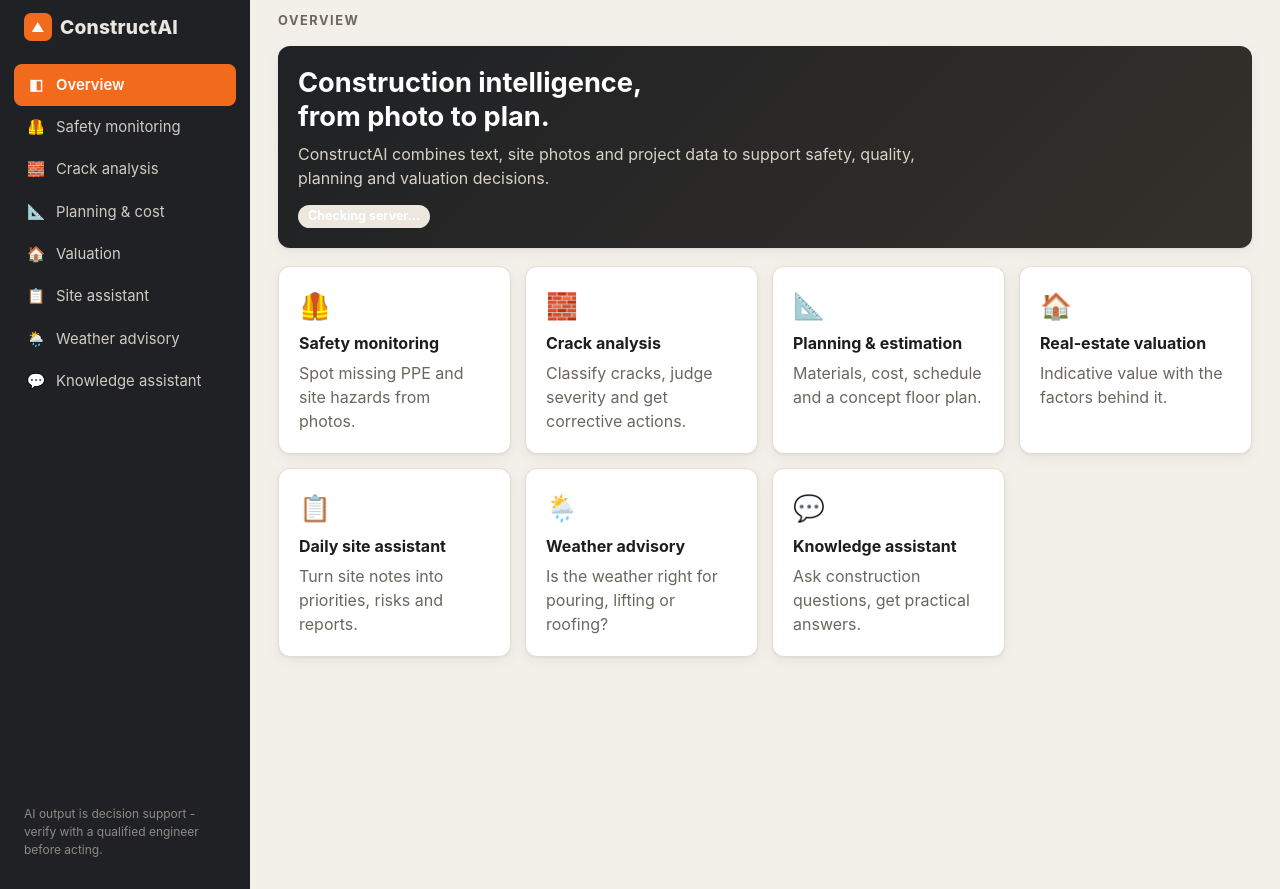
Test: planning module › copes with a missing layout
Click the button "📐 Planning & cost" at (125, 212), box 14,191 -> 236,233
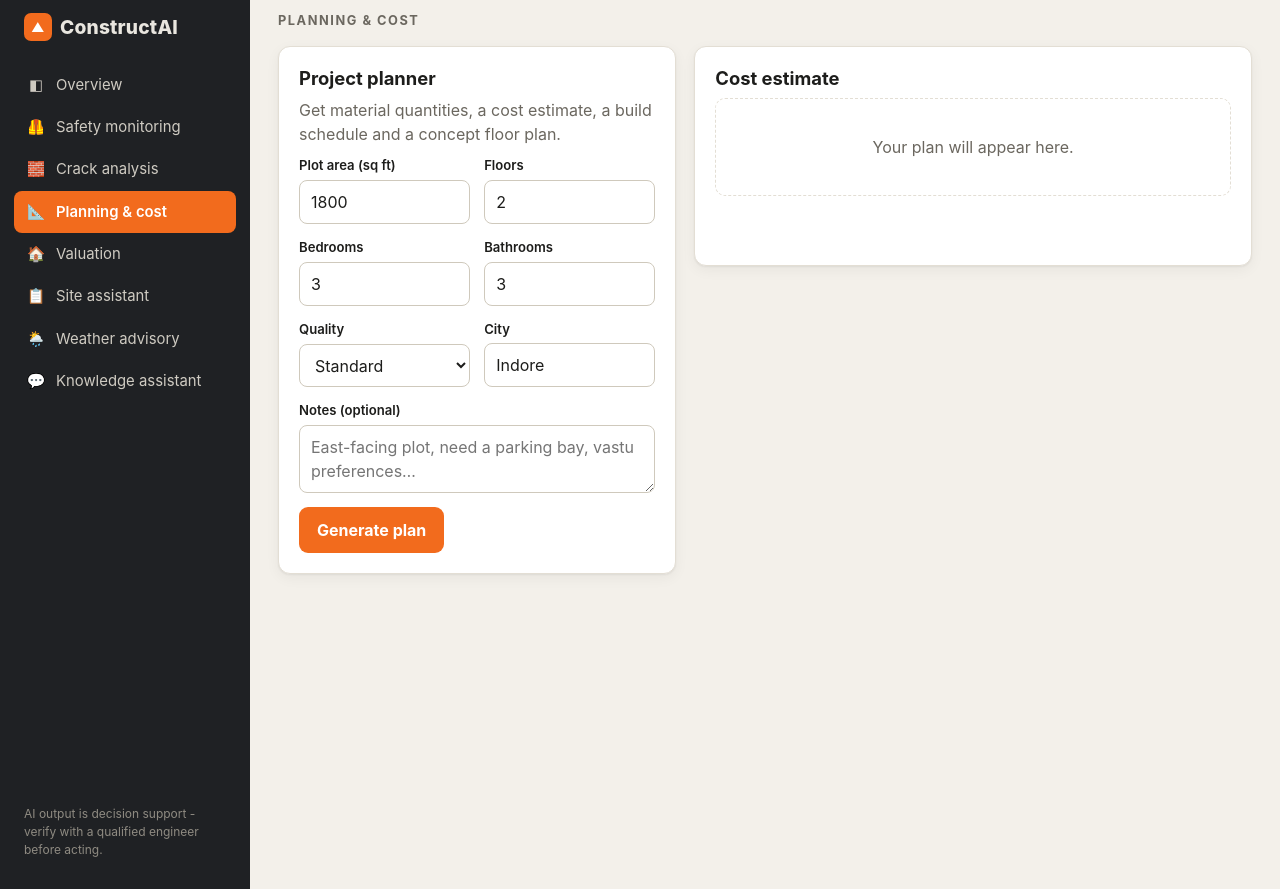
Click the button "Generate plan" at (372, 530), box 299,507 -> 444,553
(page scrolled)
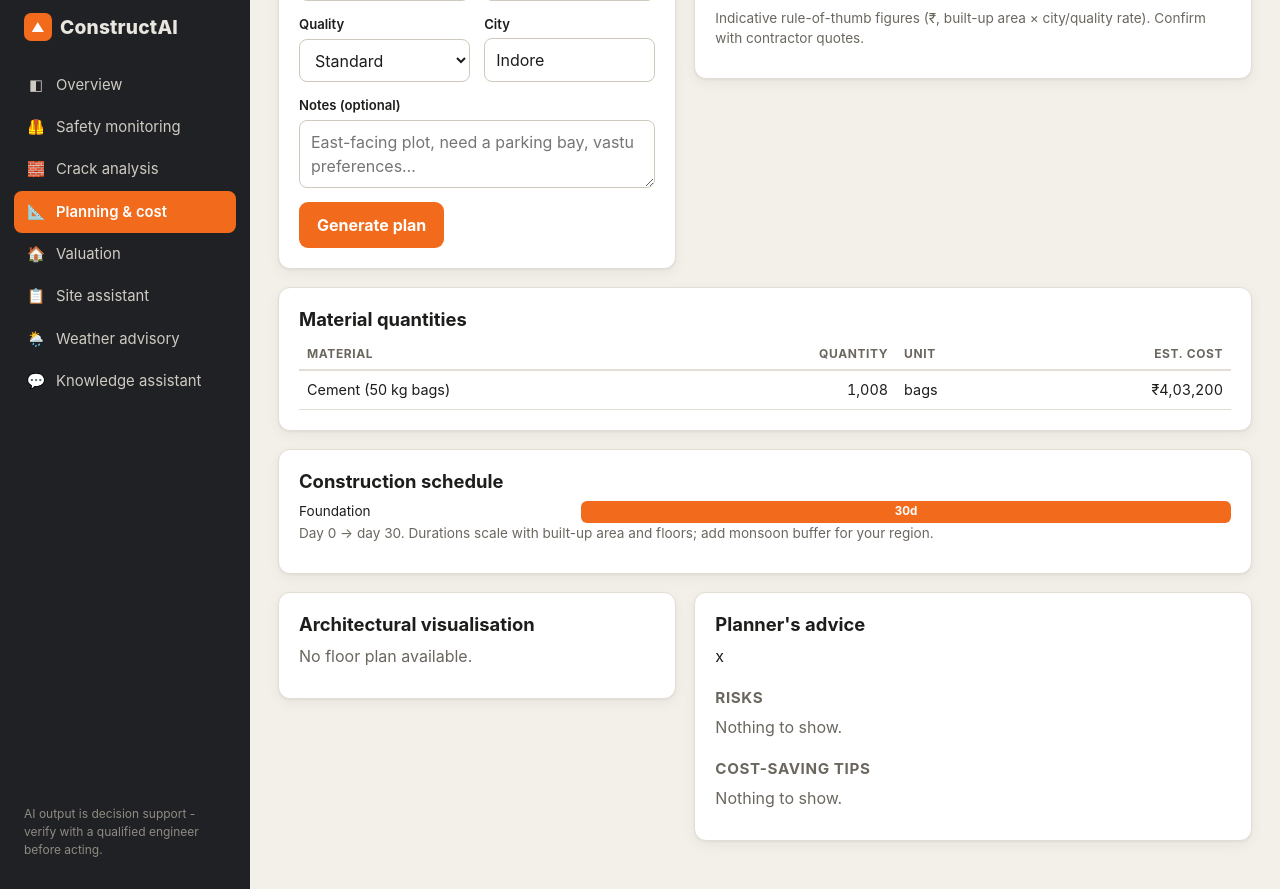
Result: the text "No floor plan available." is shown at 299,646 -> 472,666
